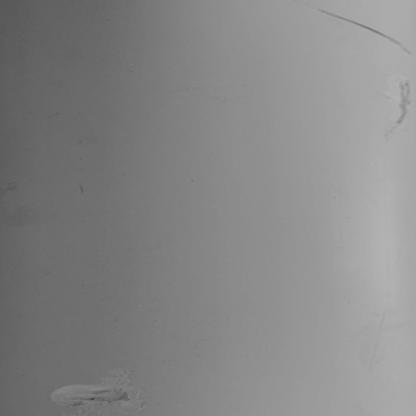sunshang: (318, 8, 416, 53), (45, 373, 143, 416), (385, 77, 416, 137)
